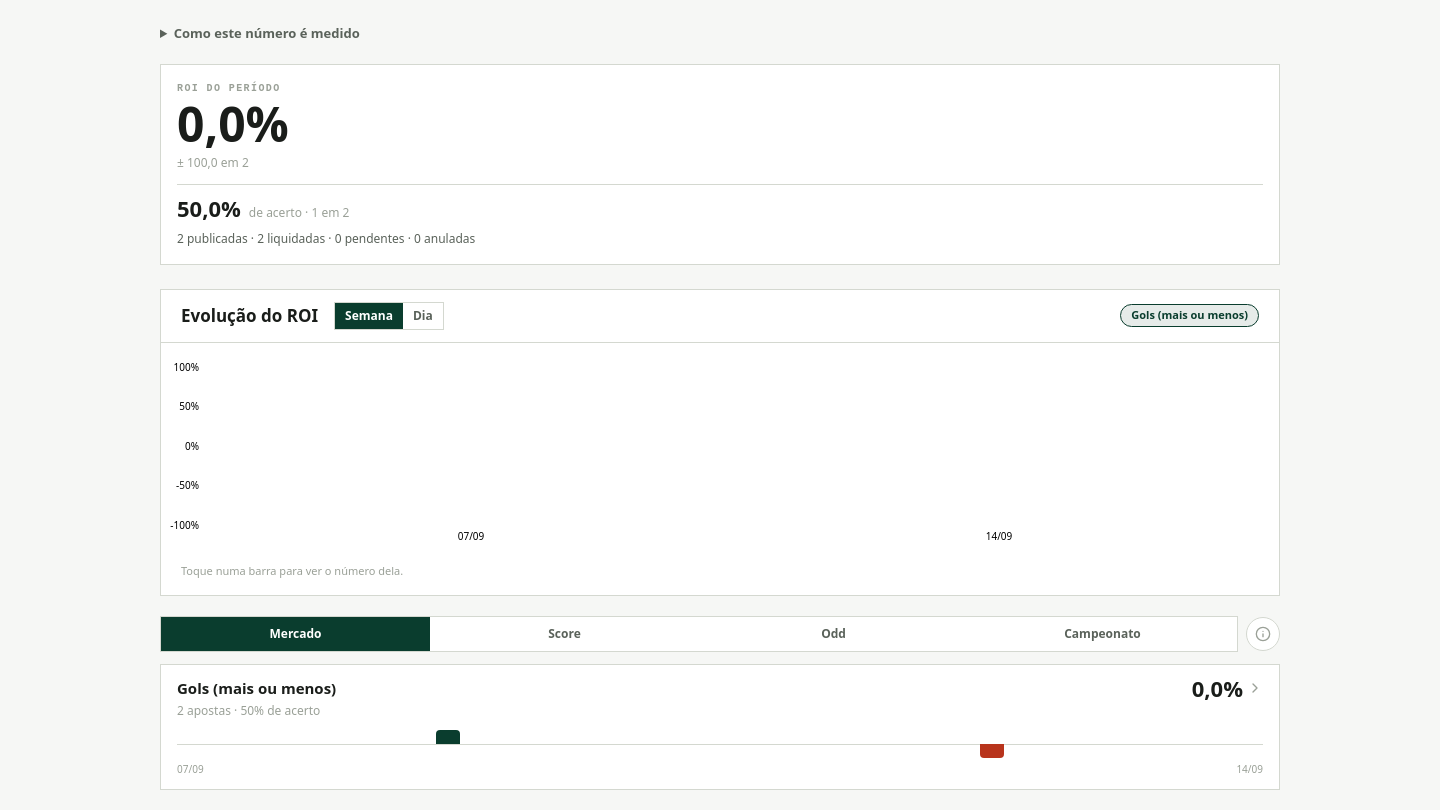
Test: a ficha da linha › e a semana abre as apostas dela, e só as dela
Step 1. Click the 9th button → point(257, 688), box [160,664,1280,790]
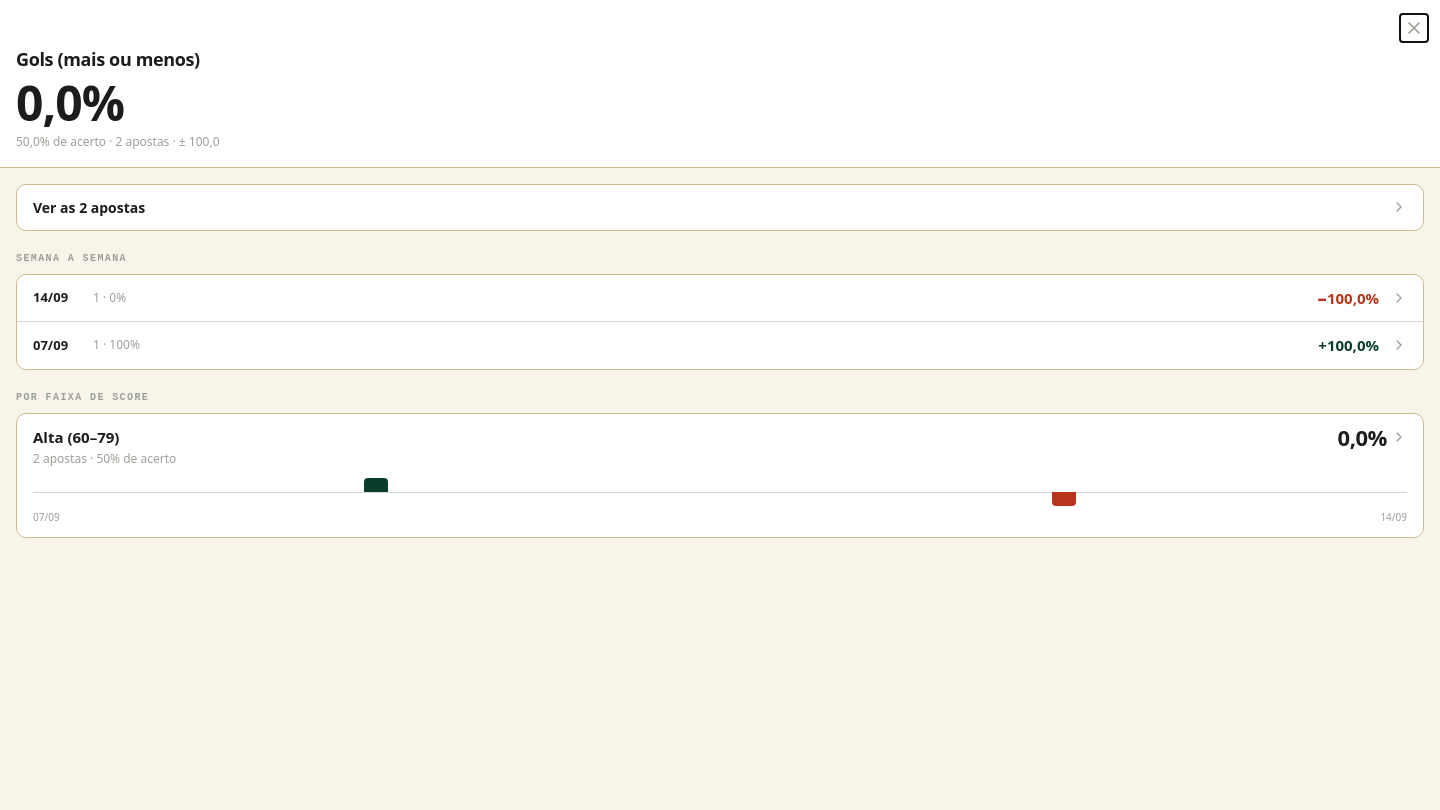
Step 2. Click the button "14/09 1 · 0% −100,0%" → point(51, 297), box [17,274,1423,321]
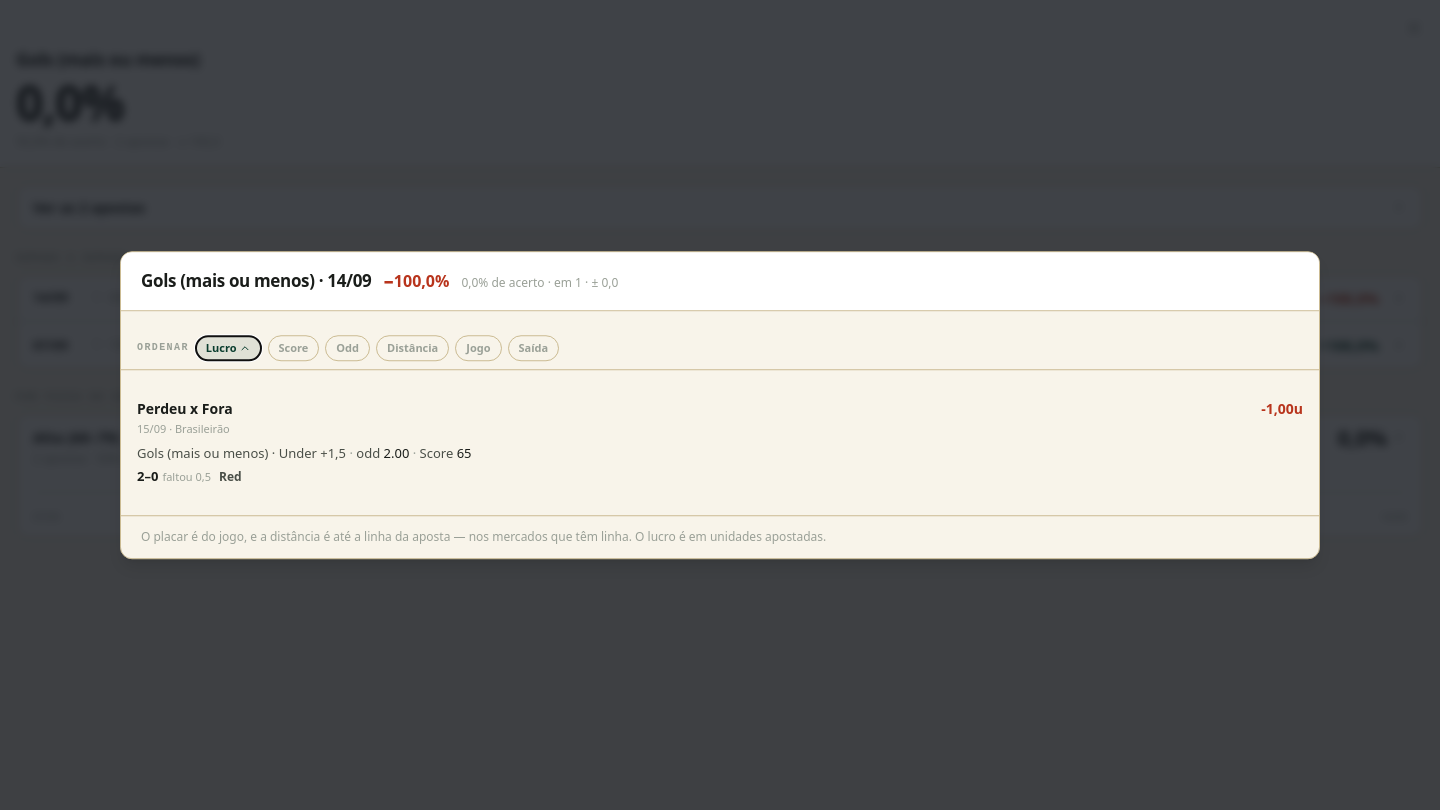
Result: the text "Perdeu x Fora" is shown at [137,398,233,419]
